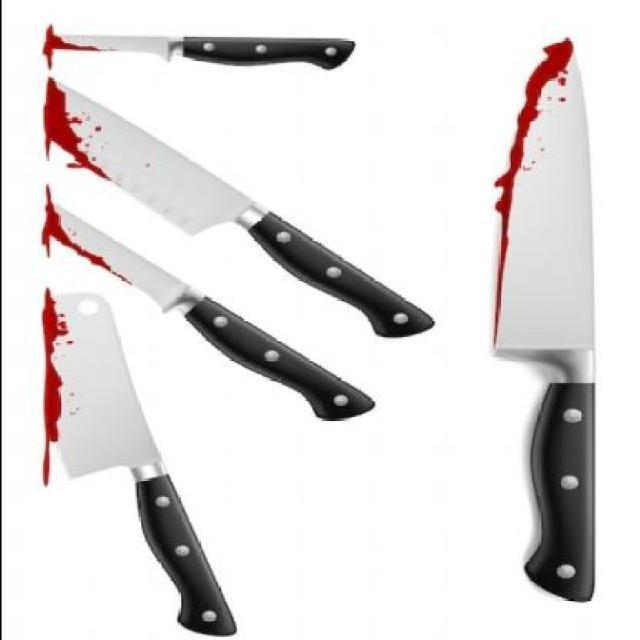weapon: (41, 76, 433, 339), (42, 185, 376, 421), (41, 289, 237, 637), (490, 36, 596, 602), (45, 26, 356, 69)
